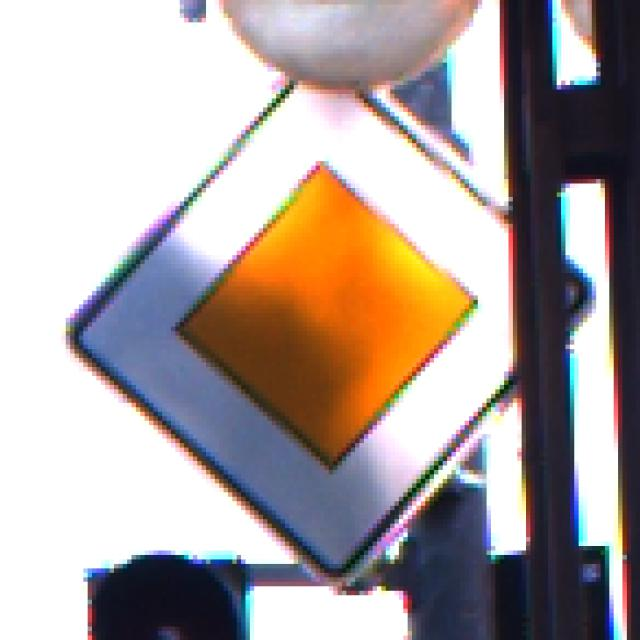Main Road: (54, 55, 589, 587)
